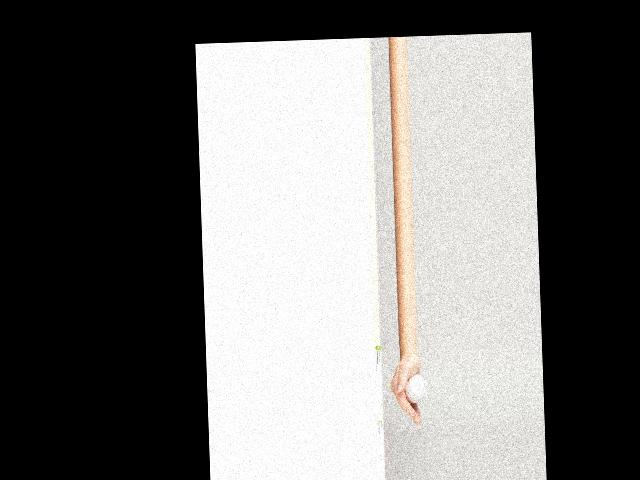egg: (404, 374, 425, 404)
